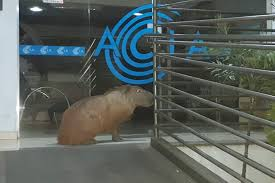capivara: (57, 84, 154, 147)
